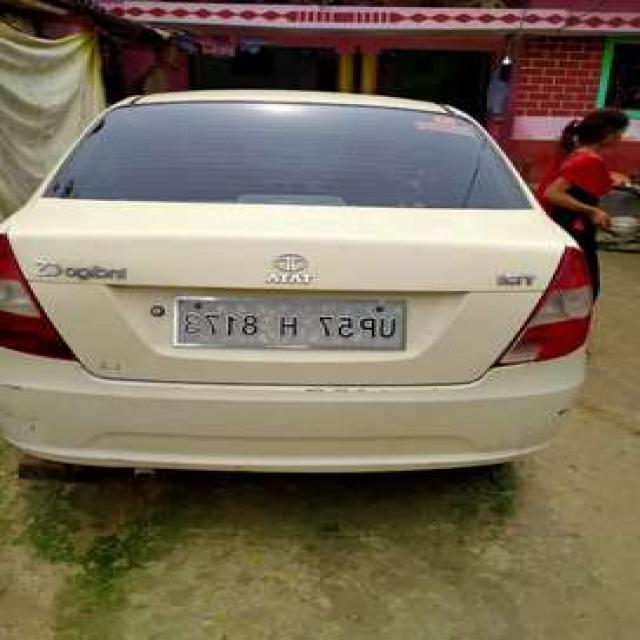license_plate: (163, 292, 420, 357)
